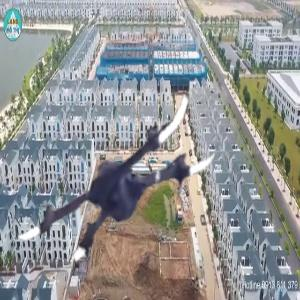drone: (1, 60, 220, 279)
